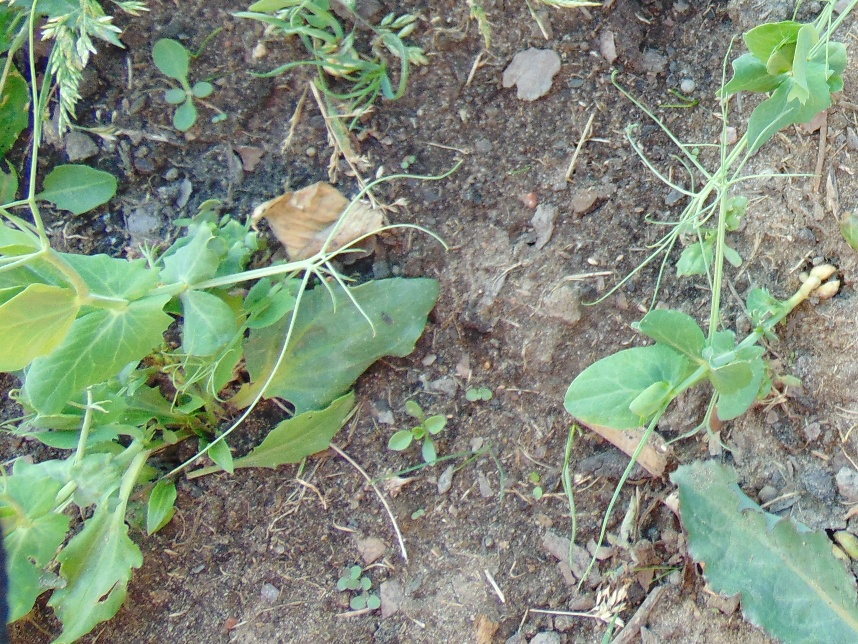crop: (555, 126, 844, 465), (2, 180, 337, 421), (1, 372, 109, 624), (709, 5, 855, 130)
weed: (238, 280, 442, 475), (670, 460, 858, 636), (1, 1, 118, 180), (310, 1, 415, 105), (60, 513, 142, 638), (150, 38, 215, 130), (40, 161, 120, 217), (390, 403, 446, 467), (335, 563, 380, 614)
